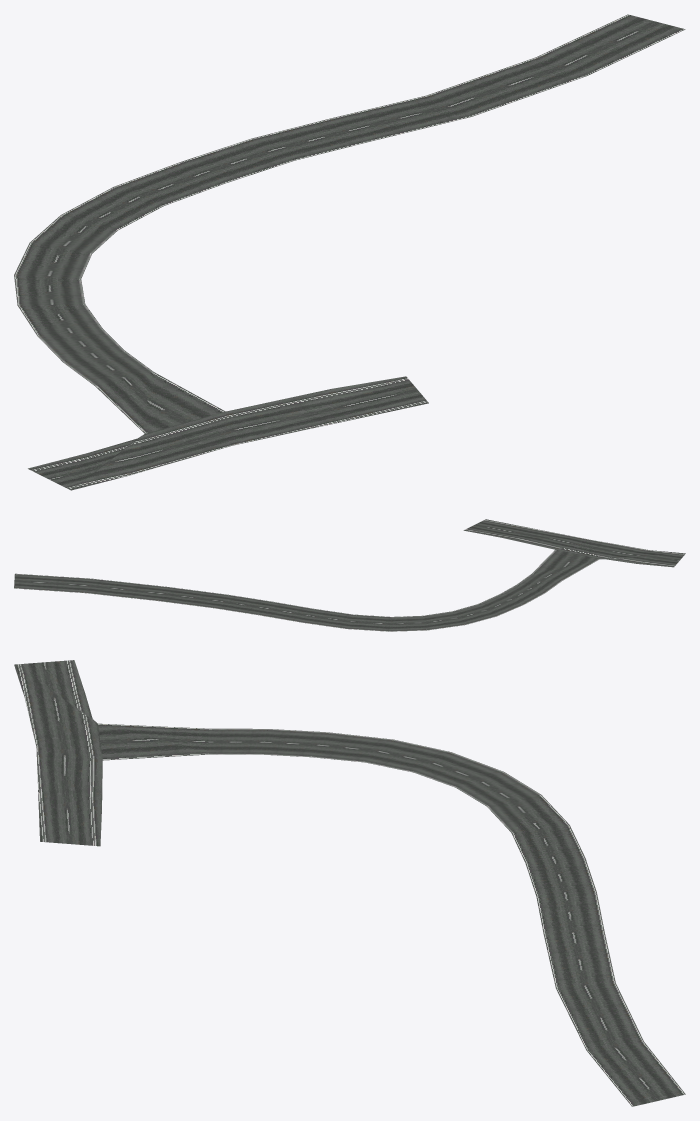
File: lodcuntwroad40.obj
The picture shows the model from 3 angles, top to bottom: view 1: azimuth 30°, elevation 25°; view 2: azimuth 150°, elevation 25°; view 3: azimuth 270°, elevation 25°; orthographic projection. The views are drawn at different scales.
Visible parts, largest first — view 1: LODcuntwroad40; view 2: LODcuntwroad40; view 3: LODcuntwroad40.
Part boxes in pixels (x1=…): LODcuntwroad40: x1=14, y1=14, x2=685, y2=490; LODcuntwroad40: x1=14, y1=519, x2=685, y2=631; LODcuntwroad40: x1=14, y1=660, x2=685, y2=1106.
Bounding box in the file's own units: 197 × 4.37 × 131.
Materials: 1 (1 with a texture image).
